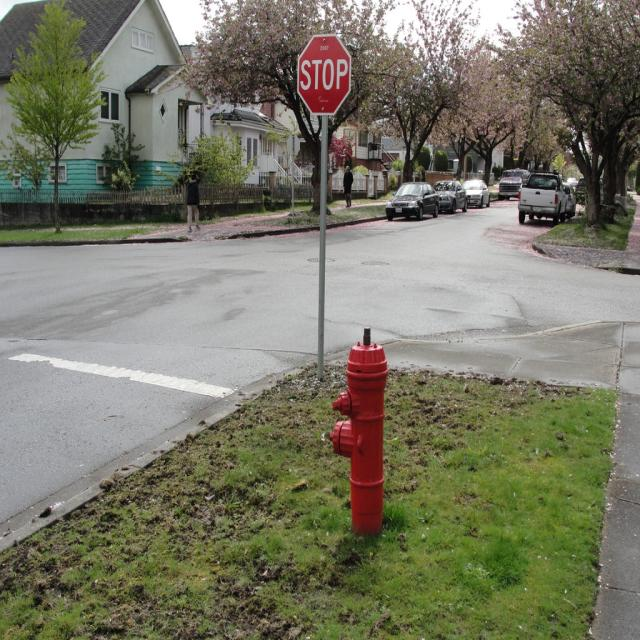fire_hydrant: (326, 329, 389, 536)
